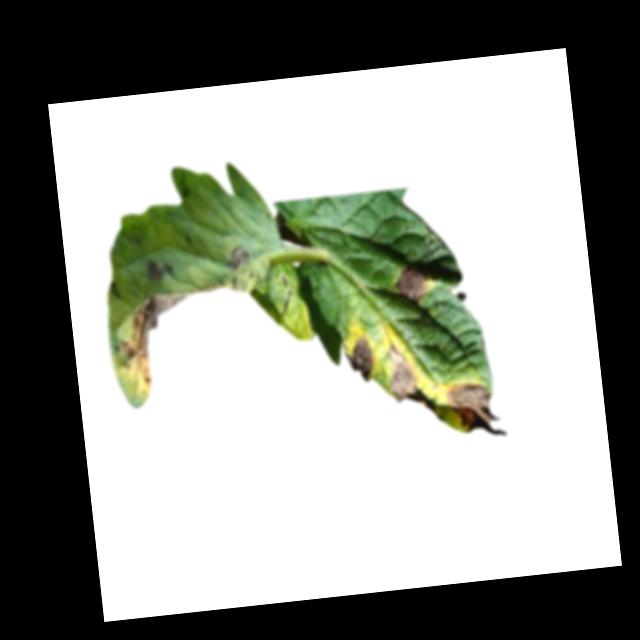Early_blight: (109, 288, 199, 395), (443, 380, 506, 444), (385, 339, 433, 418), (346, 333, 377, 385), (395, 266, 429, 301), (143, 257, 174, 283), (228, 246, 249, 271)
